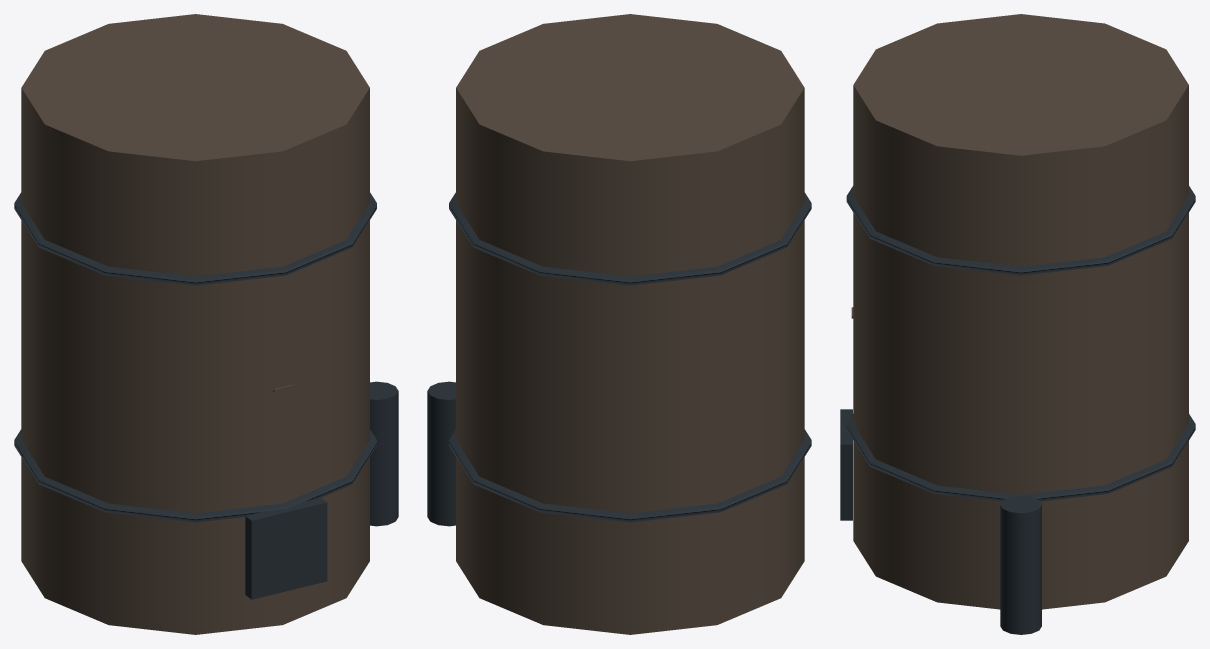
Rendered from tank-1.glb.
The picture shows the model from 3 angles, left to right: view 1: azimuth 30°, elevation 25°; view 2: azimuth 150°, elevation 25°; view 3: azimuth 270°, elevation 25°; orthographic projection. The views are drawn at different scales.
Parts seen in each view (by area): view 1: tank/0/KR-230-1; view 2: tank/0/KR-230-1; view 3: tank/0/KR-230-1.
Part boxes in pixels (x1,y1,x2,y2): tank/0/KR-230-1: [14, 14, 398, 634]; tank/0/KR-230-1: [427, 14, 811, 634]; tank/0/KR-230-1: [840, 14, 1195, 634].
Size of the model in its own units: 4.73 by 6 by 4.23.
